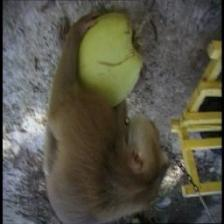monkey: (120, 108, 171, 183)
